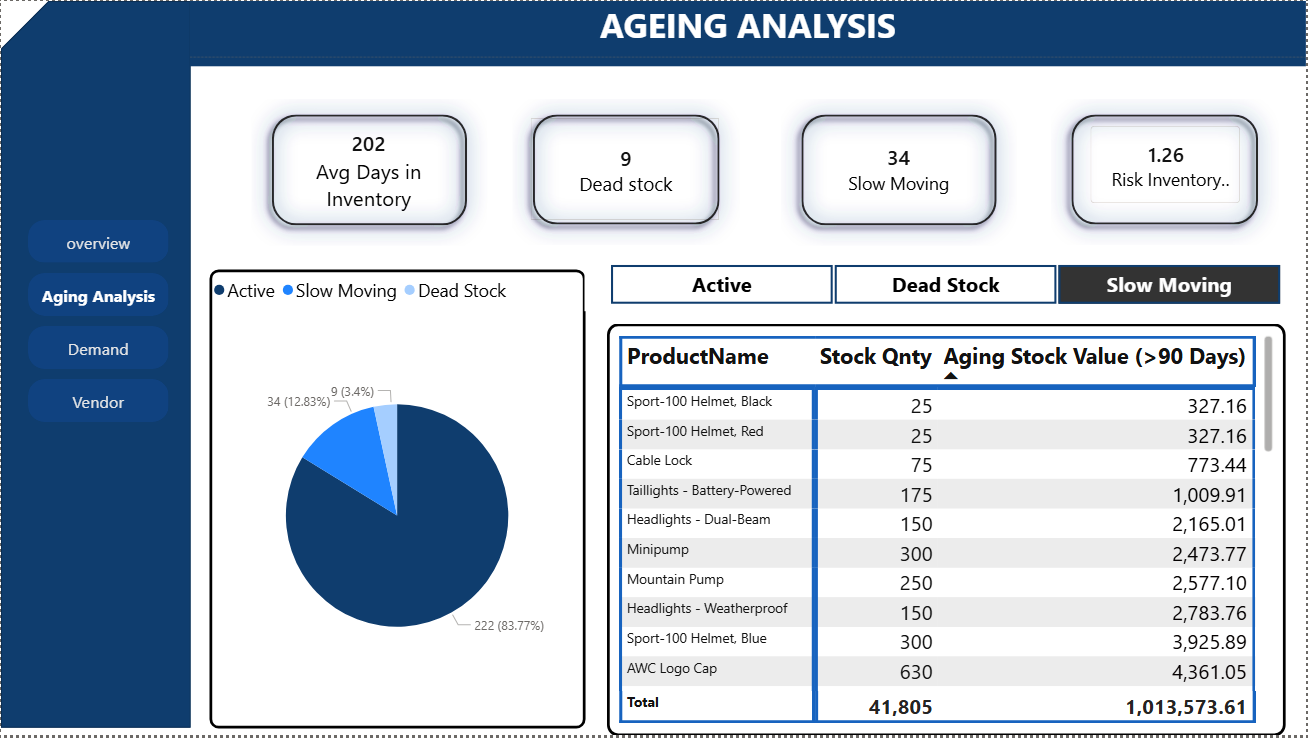

This screenshot's page, from the dashboard's own definition file:
{"tool":"powerbi","page":{"name":"Aging Analysis","canvas":[1280,720],"ordinal":1},"visuals":[{"type":"cardVisual","title":"C_Risk Inventory","fields":{"Data":["Aging_Measure.Risk Inventory %"]},"box":[1056.5,110.1,172,100.2],"z":0,"group":"g3"},{"type":"cardVisual","title":"C_Avg Days In","fields":{"Data":["Measures _LIST.avg aging"]},"box":[272,114.6,175,100],"z":0,"group":"g4"},{"type":"cardVisual","title":"C_SlowMoving","fields":{"Data":["Aging_Measure.Slow Moving"]},"box":[793.4,116,175,92],"z":0,"group":"g2"},{"type":"pieChart","fields":{"Y":["Aging_Measure.Product Count"],"Category":["FactInventoryAging.InventoryStatus"]},"box":[204.1,262.7,368.5,449.8],"z":0},{"type":"shape","title":"S_AvgDaysInventory","box":[245.7,90.7,231.3,148.7],"z":1000,"group":"g4"},{"type":"shape","title":"S_SlowMoving","box":[765.4,90.7,231.3,148.7],"z":1000,"group":"g2"},{"type":"shape","title":"S_Risk inventory","box":[1029.9,90.7,223,148],"z":1000,"group":"g3"},{"type":"cardVisual","title":"C_DeadStock","fields":{"Data":["Aging_Measure.Dead stock"]},"box":[519.2,114.6,185,100],"z":1000,"group":"g1"},{"type":"pivotTable","fields":{"Rows":["DimProduct.ProductName"],"Values":["Measures _LIST.StockQnty","Measures _LIST.Aging Stock Value (>90 Days)"]},"box":[593.4,315.6,665.2,404.4],"z":1000},{"type":"shape","title":"S_DeadStock","box":[500.8,90.7,223,148],"z":2000,"group":"g1"},{"type":"slicer","title":"Slicer Matrix","fields":{"Values":["FactInventoryAging.InventoryStatus"]},"box":[572.6,251.3,706.2,52.5],"z":2000},{"type":"group","id":"g1","title":"DeadStock","box":[500.8,90.7,223,148],"z":3000},{"type":"group","id":"g2","title":"SlowMoving","box":[765.4,90.7,230.6,147.4],"z":4000},{"type":"group","id":"g3","title":"Risk inventory","box":[1029.9,90.7,223,148],"z":5000},{"type":"group","id":"g4","title":"Avg Days in inventory","box":[245.7,90.7,231.3,148.7],"z":6000},{"type":"shape","title":"S_Navigation","box":[0,0,186.1,712.6],"z":7000},{"type":"pageNavigator","title":"PN_Overview","box":[27,215,138,200],"z":8000},{"type":"actionButton","title":"AGEING ANALYSIS","box":[185.4,0,1094,64.2],"z":9001}]}

Visuals, with their boxes in screenshot pixels (x1, y1, x2, y2), scaled from the page's 1280x720 canvas onto the 1308x739 screenshot:
"C_Risk Inventory" cardVisual: [1080,113,1255,216]
"C_Avg Days In" cardVisual: [278,118,457,220]
"C_SlowMoving" cardVisual: [811,119,990,213]
pieChart - Aging_Measure.Product Count x FactInventoryAging.InventoryStatus: [209,270,585,731]
"S_AvgDaysInventory" shape: [251,93,487,246]
"S_SlowMoving" shape: [782,93,1019,246]
"S_Risk inventory" shape: [1052,93,1280,245]
"C_DeadStock" cardVisual: [531,118,720,220]
pivotTable - DimProduct.ProductName x Measures _LIST.StockQnty: [606,324,1286,738]
"S_DeadStock" shape: [512,93,740,245]
"Slicer Matrix" slicer: [585,258,1307,312]
"DeadStock" group: [512,93,740,245]
"SlowMoving" group: [782,93,1018,244]
"Risk inventory" group: [1052,93,1280,245]
"Avg Days in inventory" group: [251,93,487,246]
"S_Navigation" shape: [0,0,190,731]
"PN_Overview" pageNavigator: [28,221,169,426]
"AGEING ANALYSIS" actionButton: [189,0,1307,66]
